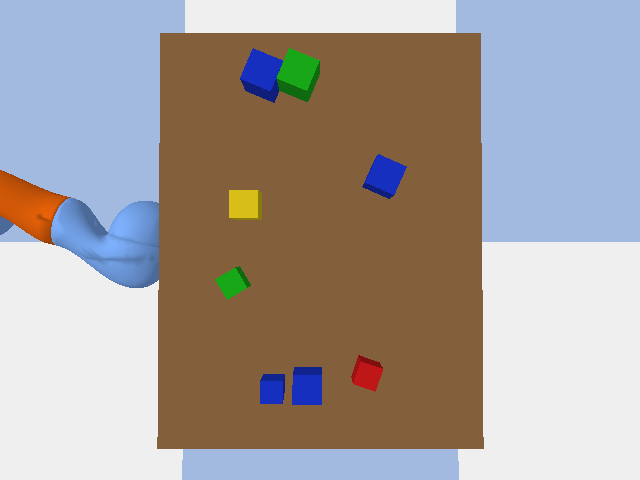blue_obj: (240, 48, 282, 102), (362, 154, 406, 198), (292, 367, 321, 404), (260, 374, 284, 403)
green_obj: (276, 48, 319, 101), (215, 266, 250, 299)
red_obj: (351, 355, 382, 391)
yellow_obj: (229, 190, 261, 219)
